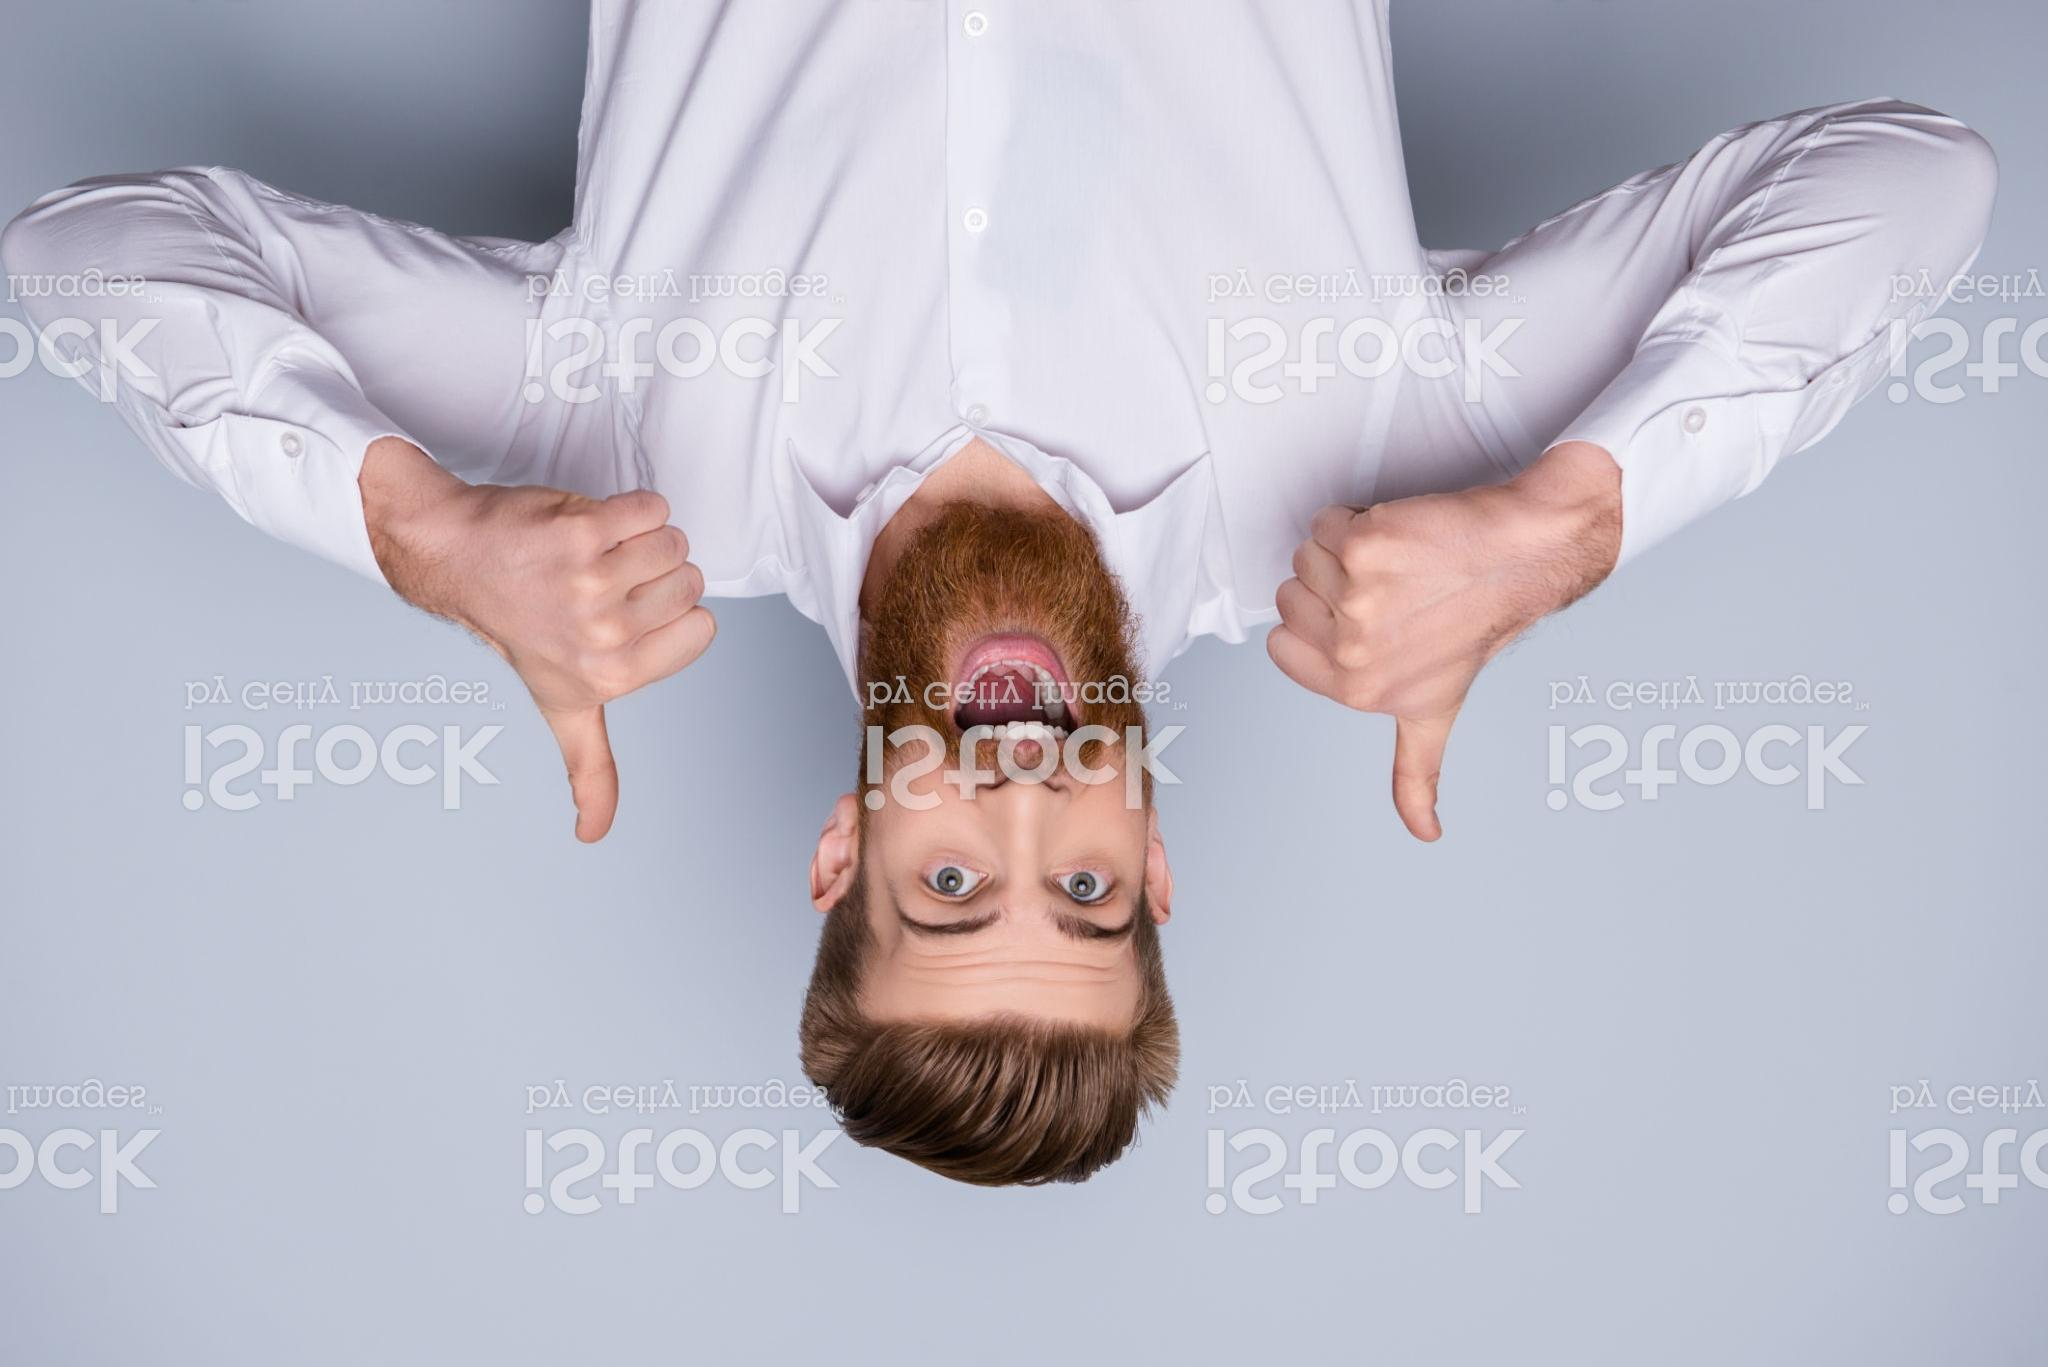thumbsdown: (473, 481, 721, 847), (1263, 484, 1481, 847)
